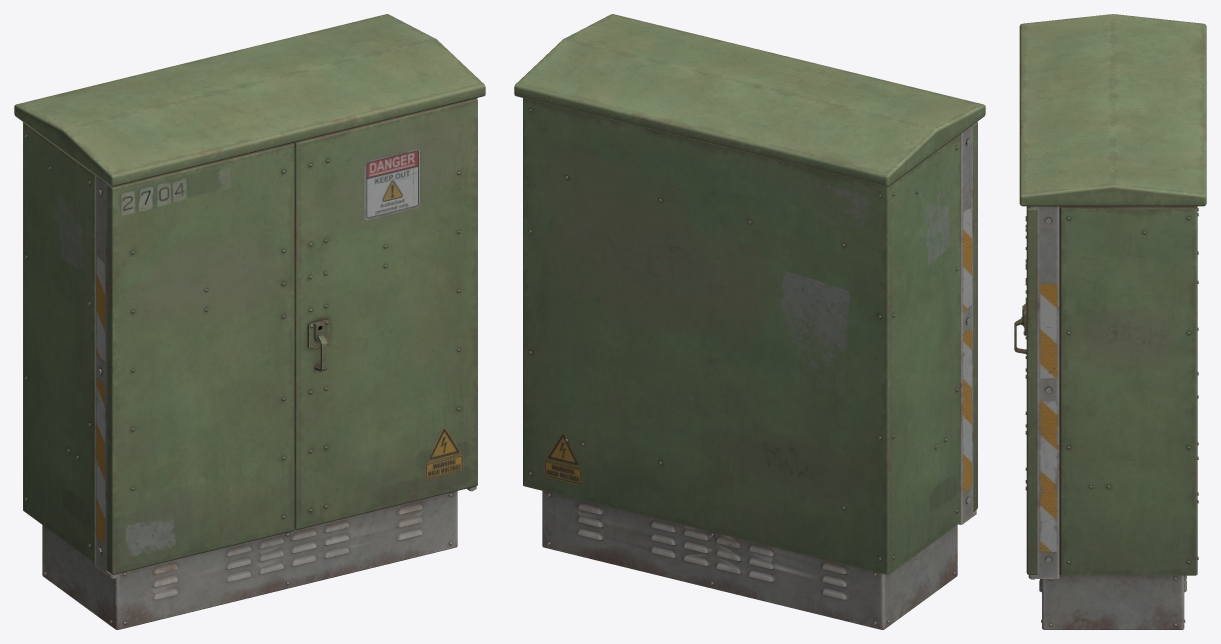
The model's file is utility_box_02_1k.gltf.
The picture shows the model from 3 angles, left to right: view 1: azimuth 30°, elevation 25°; view 2: azimuth 150°, elevation 25°; view 3: azimuth 270°, elevation 25°; orthographic projection. The views are drawn at different scales.
Parts seen in each view (by area): view 1: utility_box_02; view 2: utility_box_02; view 3: utility_box_02.
Boxes of the visible parts, bbox=[...] form: utility_box_02: bbox=[14, 14, 485, 629]; utility_box_02: bbox=[514, 14, 985, 629]; utility_box_02: bbox=[1014, 14, 1206, 629].
Bounding box in the file's own units: 0.92 × 1.12 × 0.432.
1 material, 1 textured.
